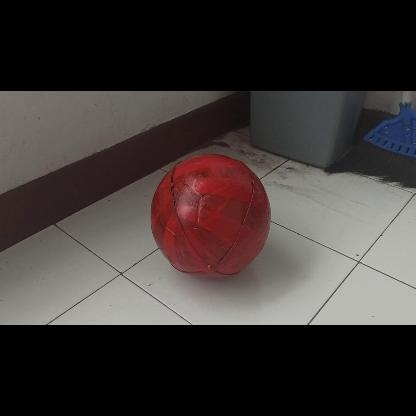red_ball: (146, 157, 272, 282)
